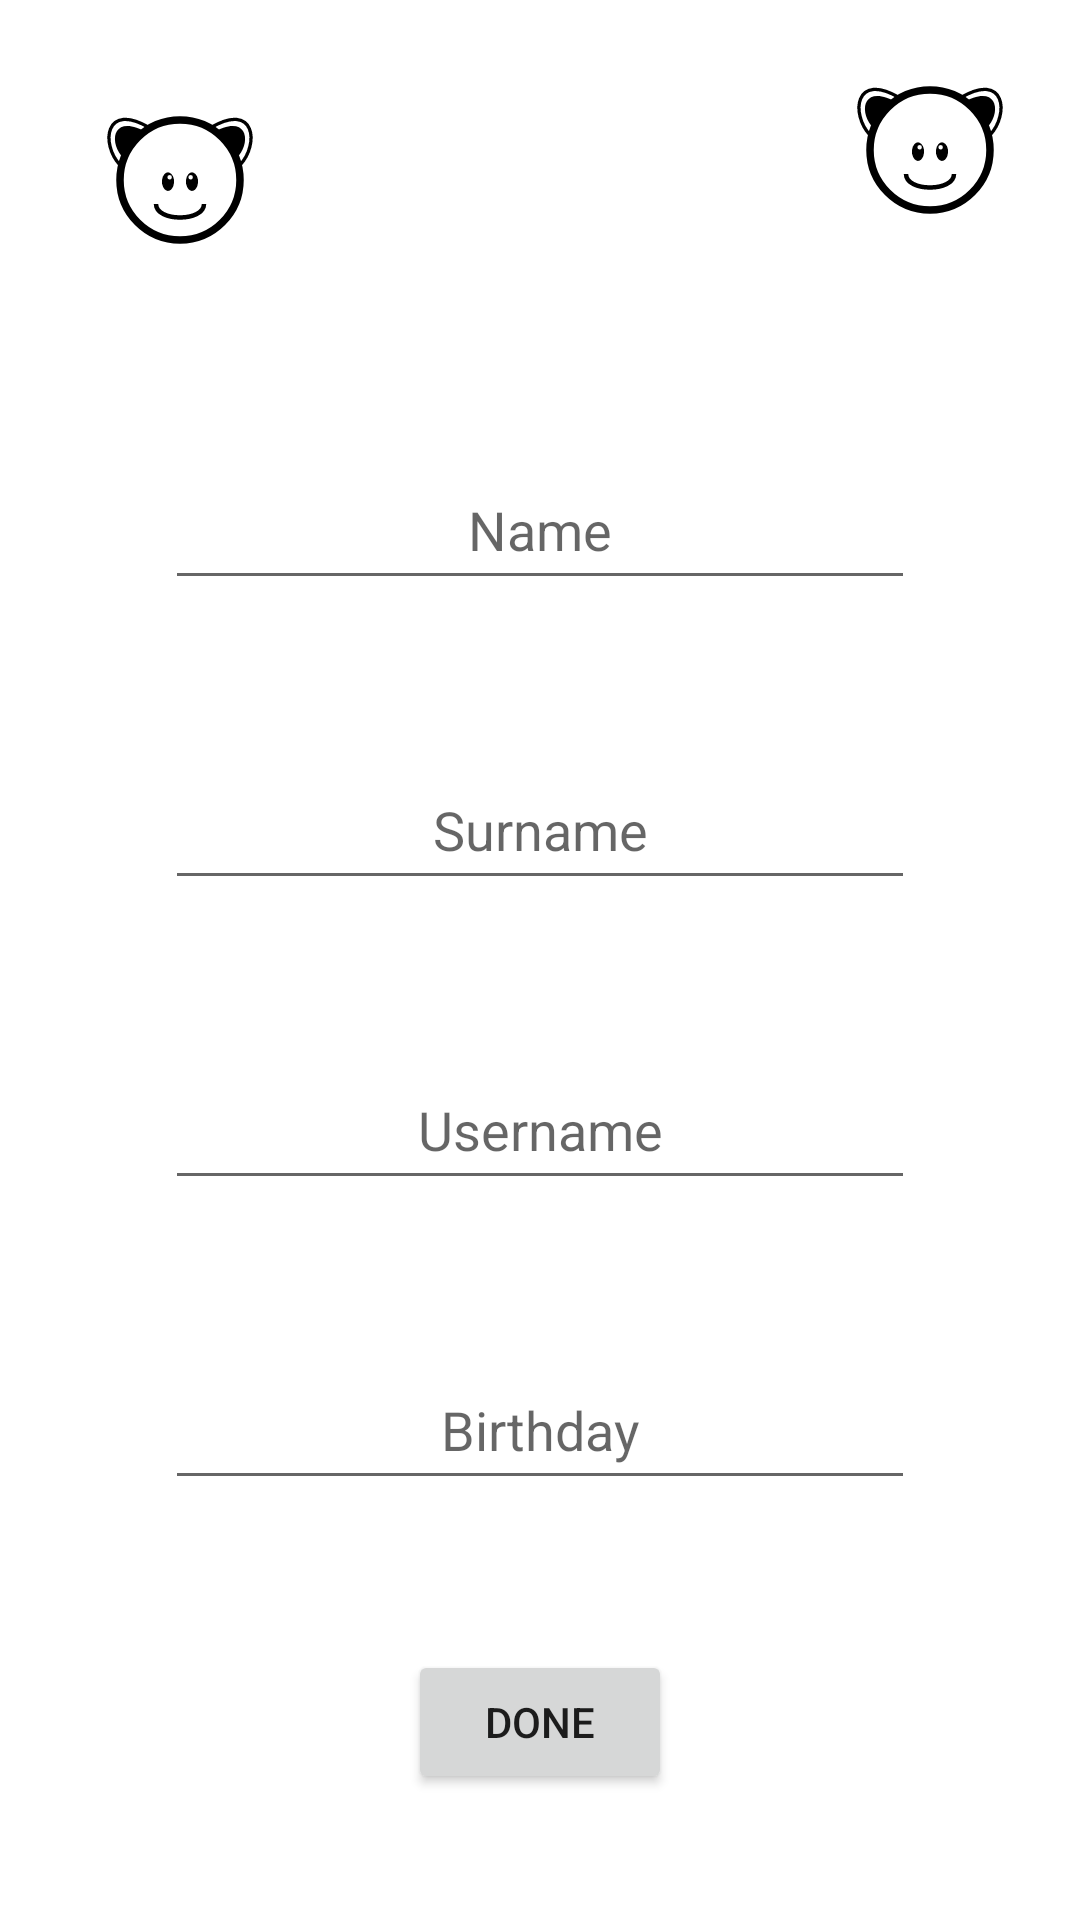

Where icons sit on this 1080x1920 app screen, as box=[x1, y1, x2, y2]:
bear: box=[857, 86, 1003, 214], box=[107, 116, 253, 244]
